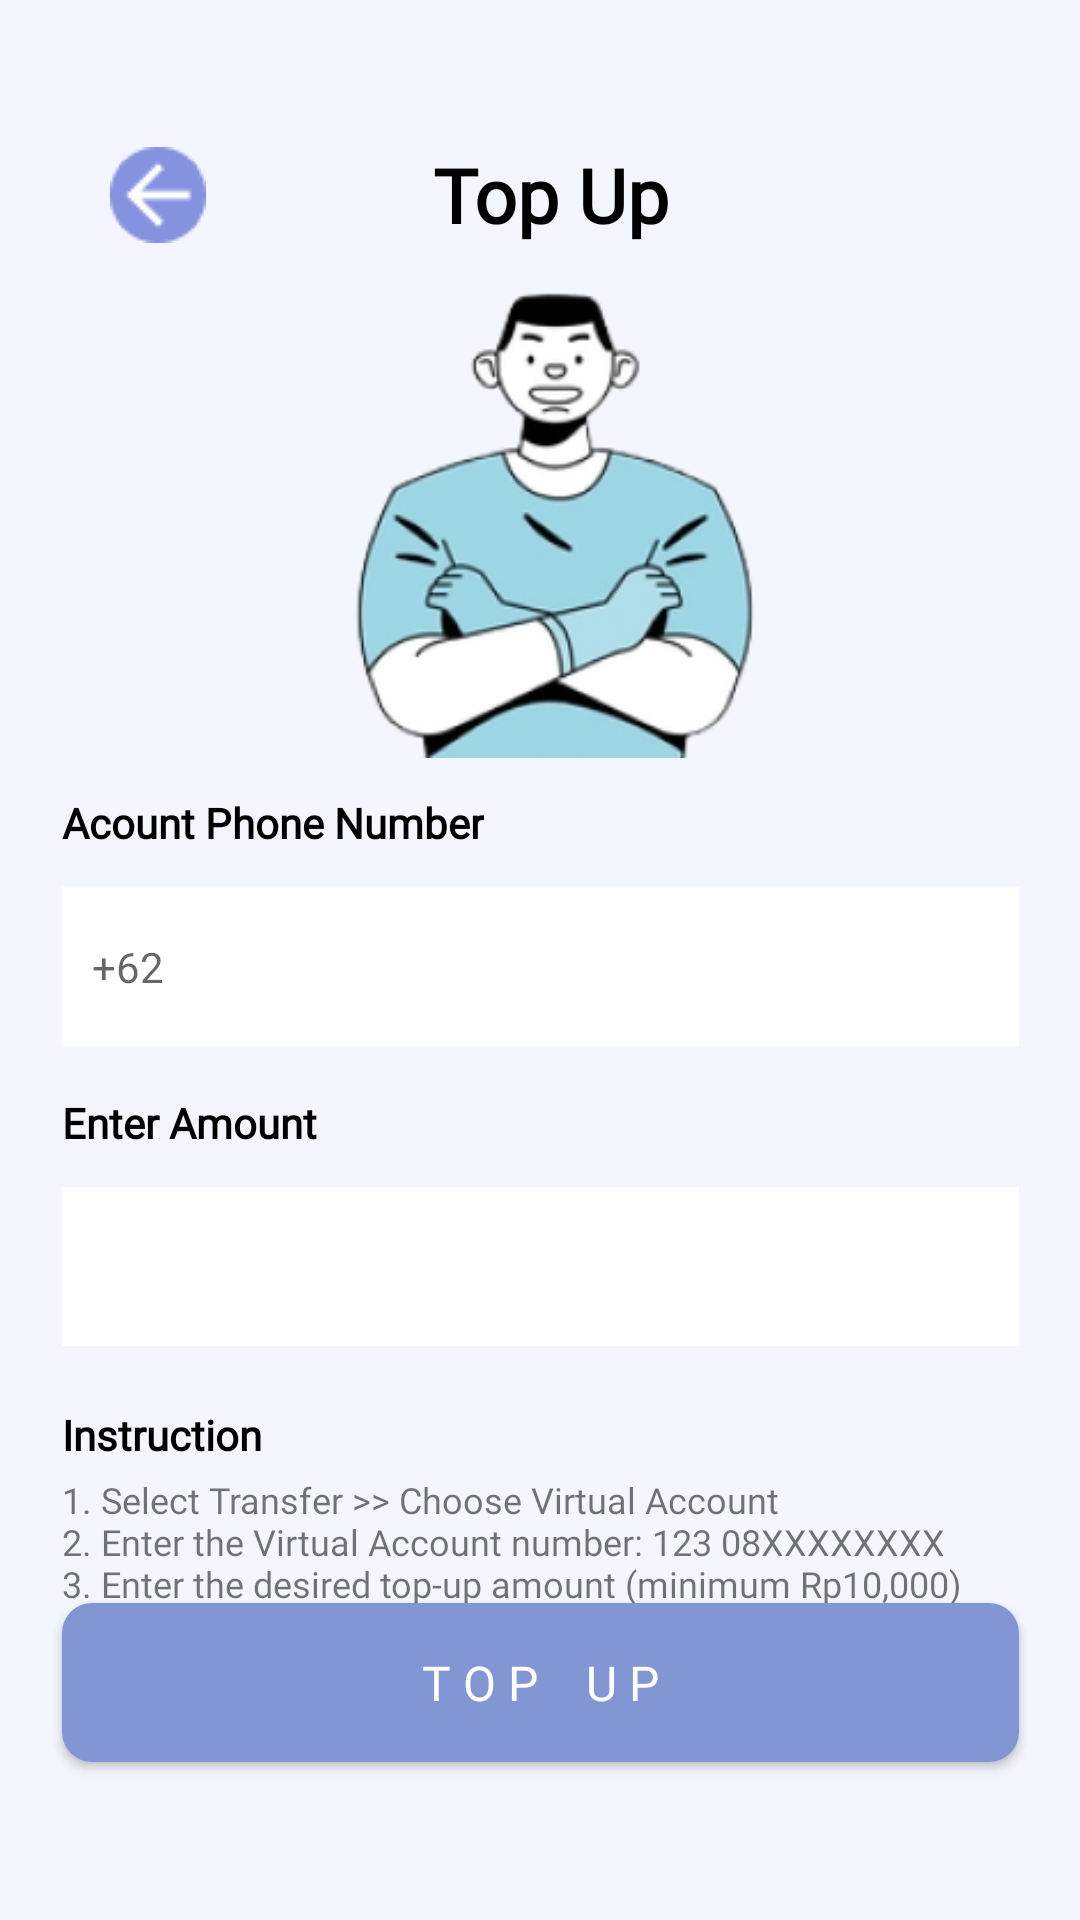

Icons on this 1080×1920 Android screen, each with the point to tap as point (x, y):
backungu: point (158, 195)
